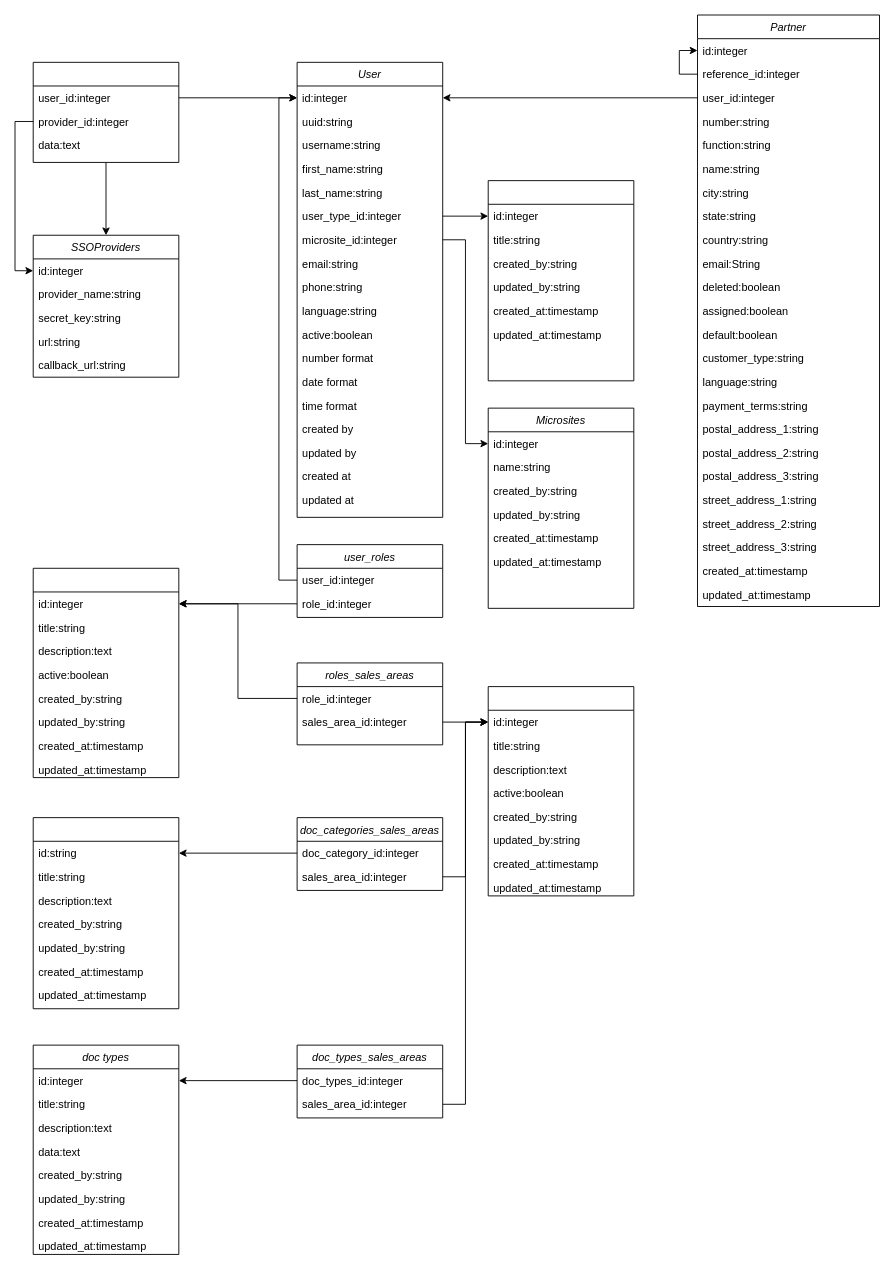
Image size: 895x1269. Some labels were removed from this diagram. The box of each missing label's shape, as (x1, y1, x2, y2) in pixels:
AssignedSSOProviders: (32, 61, 179, 162)
doc categories: (32, 817, 179, 1009)
roles: (32, 567, 179, 778)
SalesAreas: (487, 686, 634, 896)
UserType: (487, 180, 634, 381)
